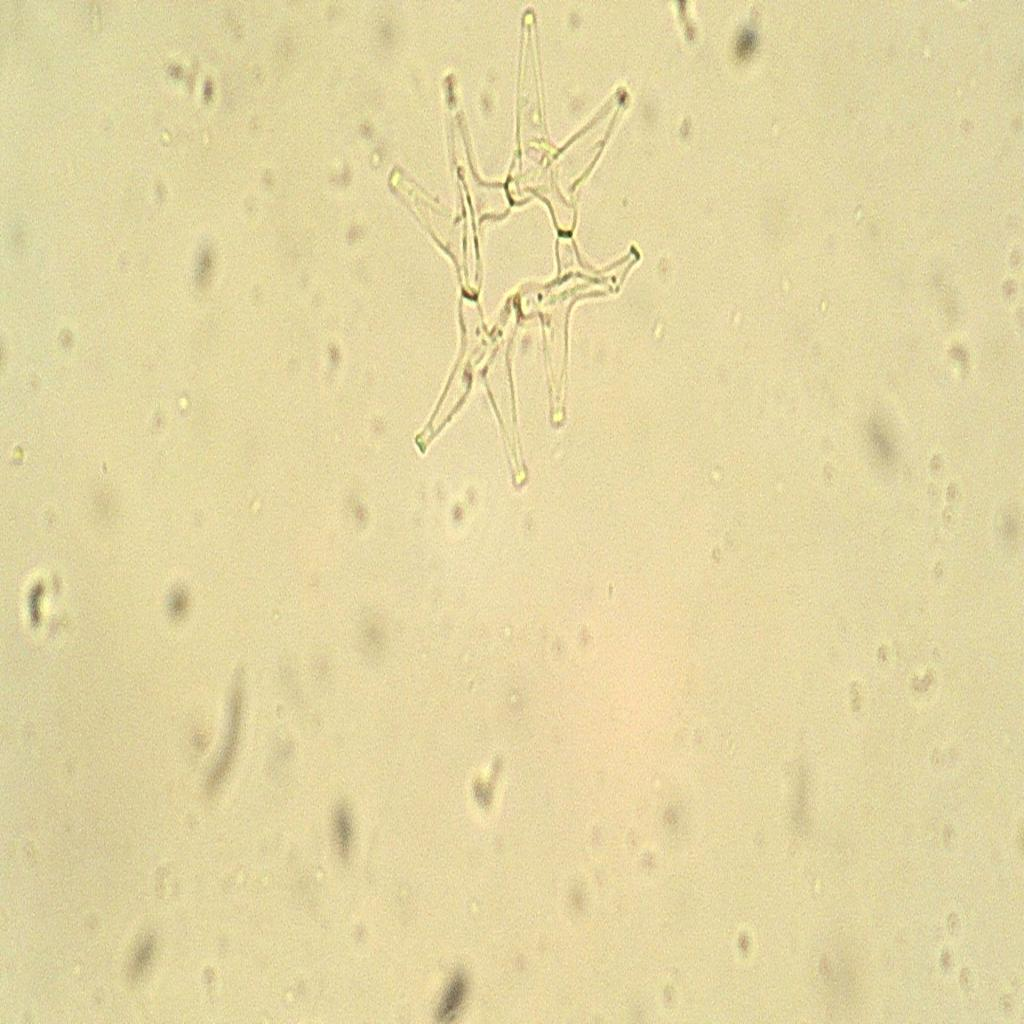Pediastrum_75TH: (374, 4, 653, 507)
